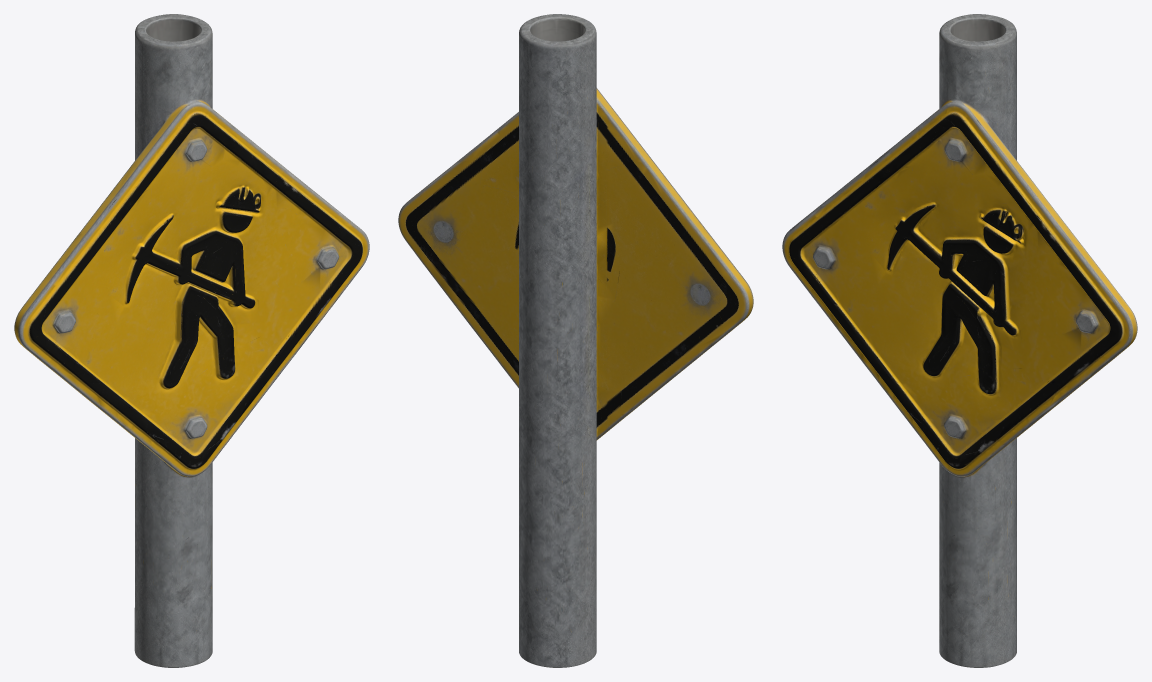
File: placa_minerador.fbx
3 renders of one model, left to right at view 1: azimuth 30°, elevation 25°; view 2: azimuth 150°, elevation 25°; view 3: azimuth 330°, elevation 25°, orthographic.
Parts seen in each view (by area): view 1: Mesh_0; view 2: Mesh_0; view 3: Mesh_0.
Part boxes in pixels (box(x1,y1,x2,y2)): Mesh_0: box(14, 14, 369, 667); Mesh_0: box(398, 14, 753, 667); Mesh_0: box(782, 14, 1137, 667).
Size of the model in its own units: 112 by 190 by 24.57.
1 material, 1 textured.
